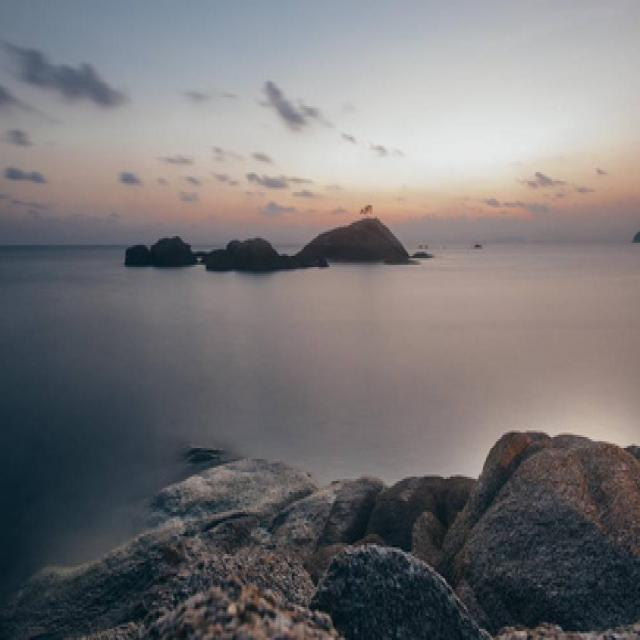island: (130, 197, 432, 280)
